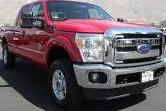front_view: (67, 23, 166, 99)
headlight: (72, 28, 116, 66)
side_glass: (10, 2, 55, 32)
